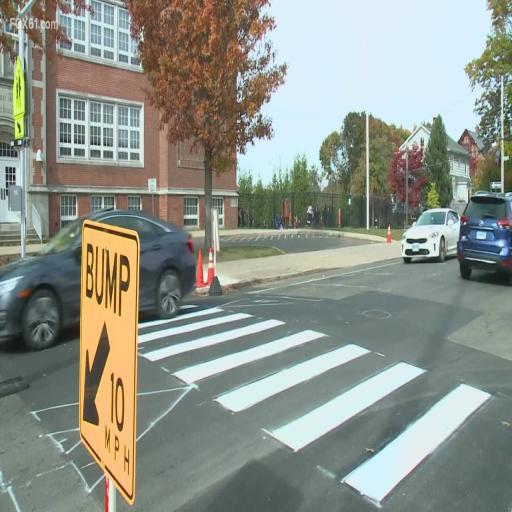book: (0, 209, 196, 350), (457, 192, 512, 284), (401, 208, 460, 263)
chair: (139, 307, 491, 504)
glass_wall: (0, 259, 512, 512)
